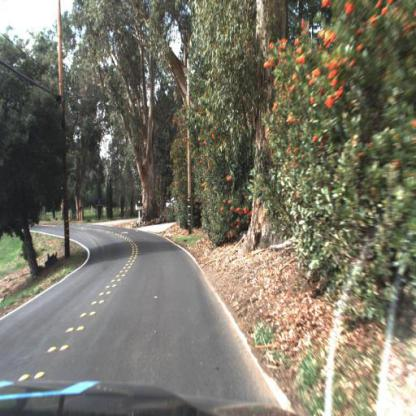car: (164, 191, 178, 216)
